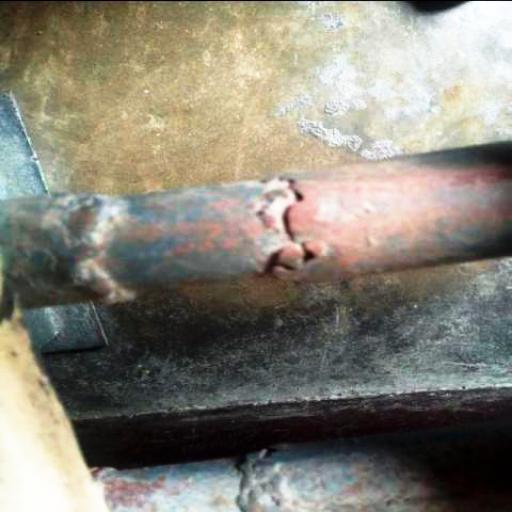crack: (256, 173, 325, 288)
